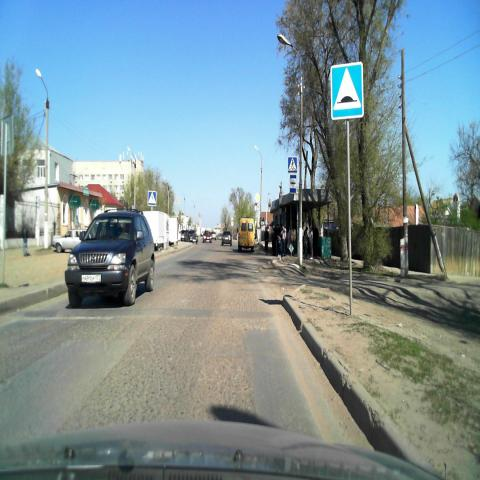5_19_1: (147, 190, 156, 206)
